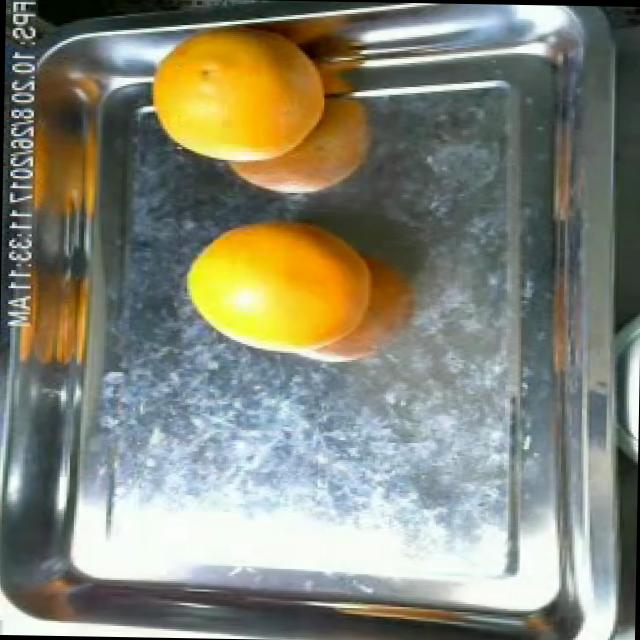Fruit: (125, 15, 358, 186), (168, 199, 382, 369)
